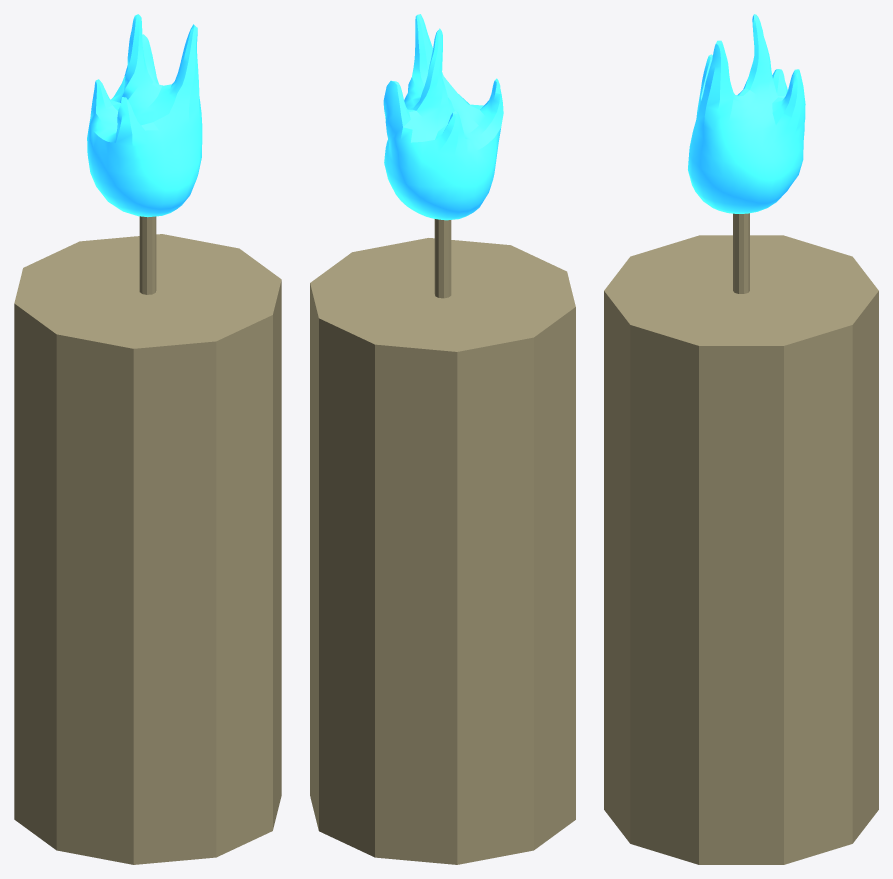
Rendered from Candle_Blu_4.fbx.
3 views of the same model, side by side, from view 1: azimuth 30°, elevation 25°; view 2: azimuth 150°, elevation 25°; view 3: azimuth 270°, elevation 25° (orthographic).
Visible parts, largest first — view 1: Candle 1.008; view 2: Candle 1.008; view 3: Candle 1.008.
Boxes of the visible parts, left/top/right/bottom form: Candle 1.008: left=14, top=14, right=281, bottom=864; Candle 1.008: left=310, top=14, right=575, bottom=864; Candle 1.008: left=604, top=14, right=878, bottom=864.
Size of the model in its own units: 22.83 by 76.51 by 24.
